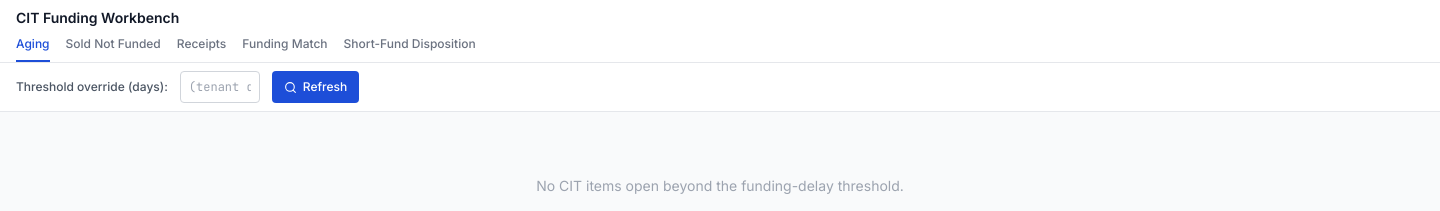
CitFundingWorkbench — Sold Not Funded tab › shows the empty state when nothing is sold-not-funded
Click the button with test id "cit-tab-snf".
click(113, 49)  # box 66,36 -> 161,62
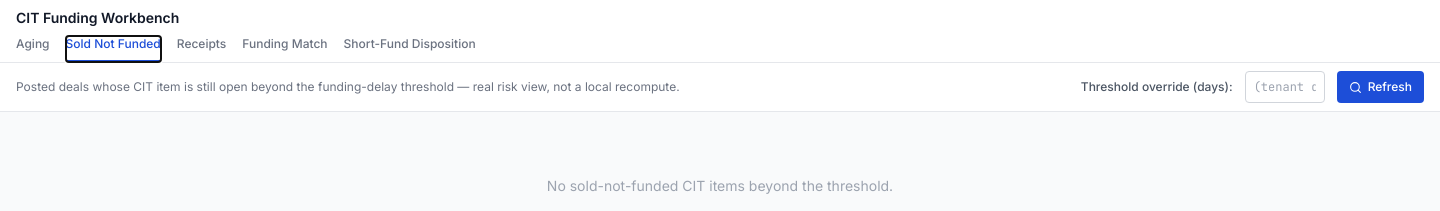
Now the text "No sold-not-funded CIT items beyond the threshold." is shown, box 547,177 -> 893,194
